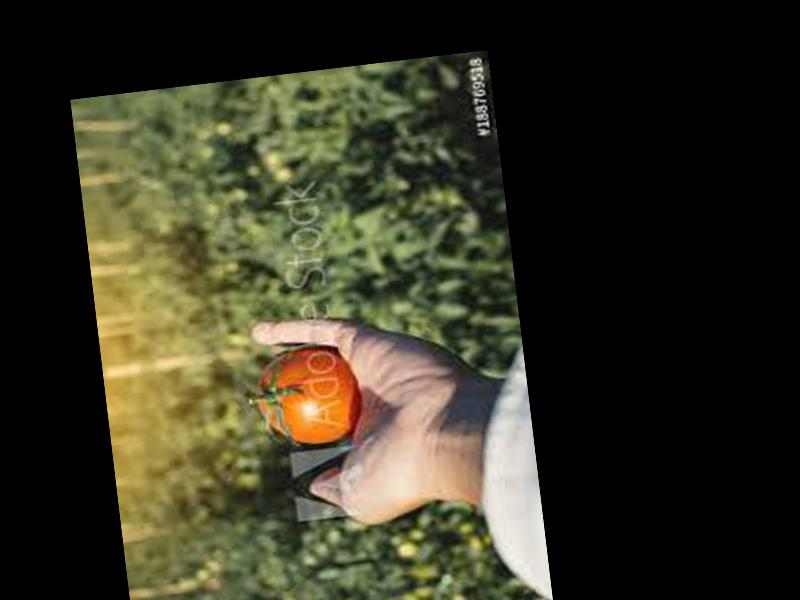Tomato: (253, 341, 360, 447)
